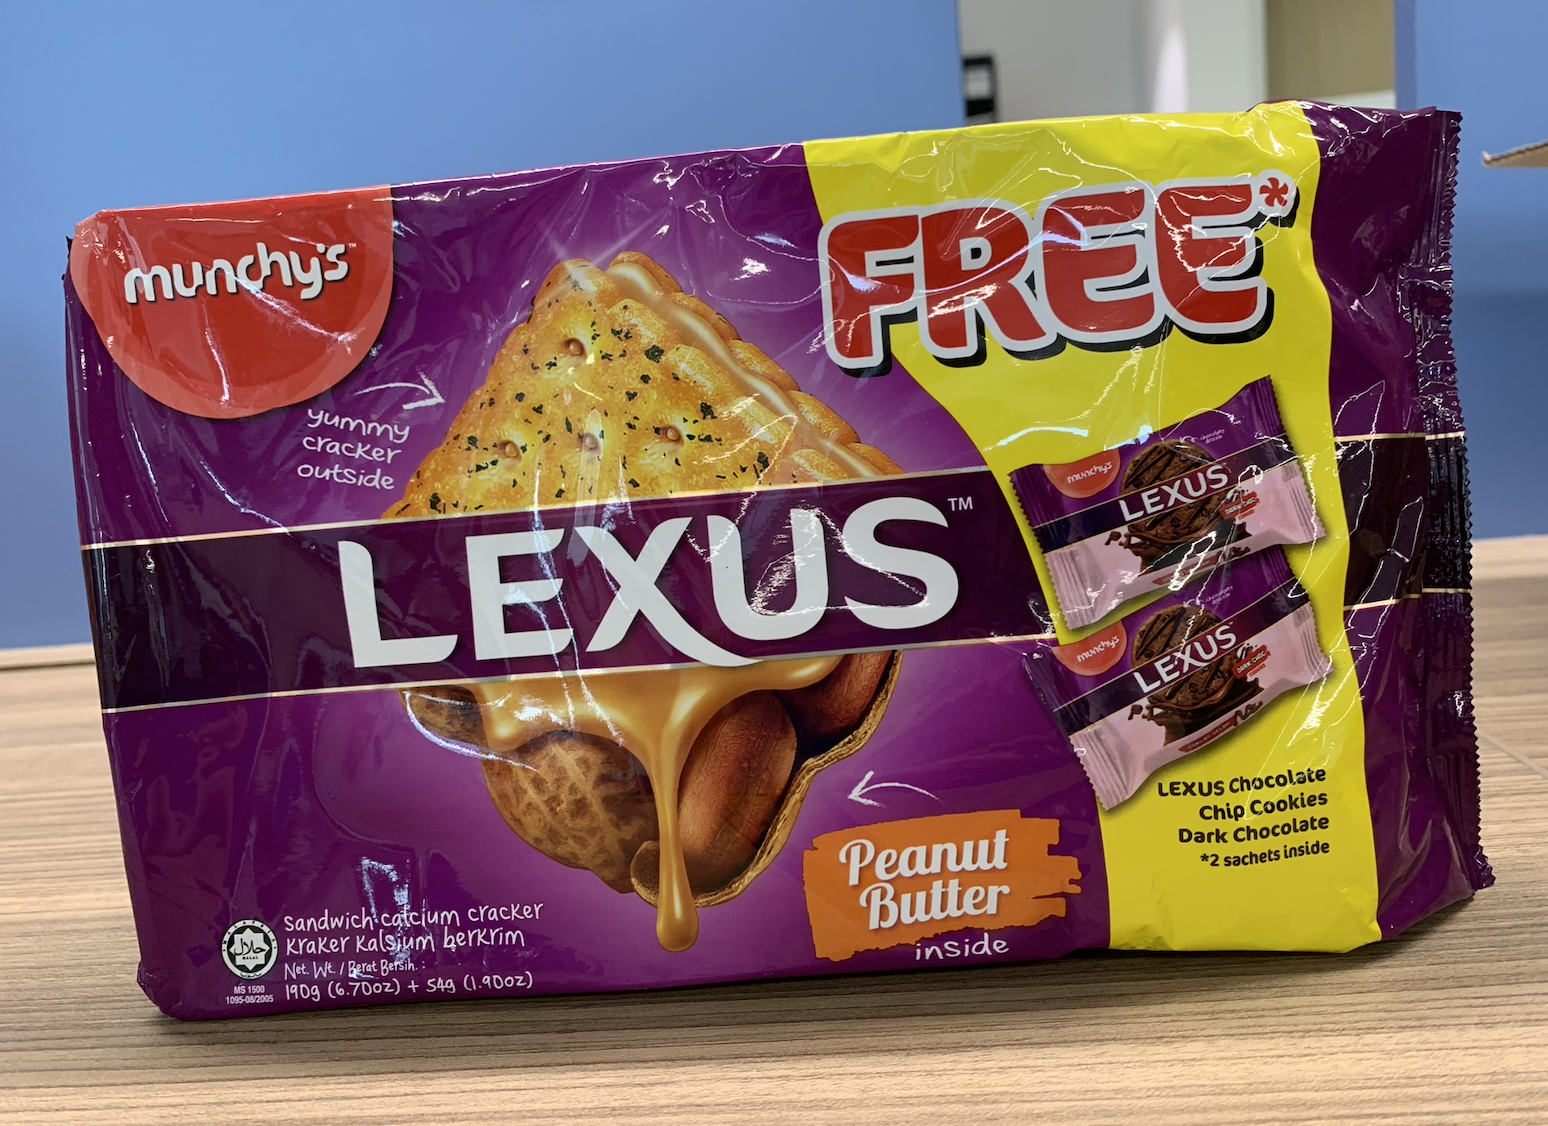cookies_150g: (129, 236, 1310, 969)
